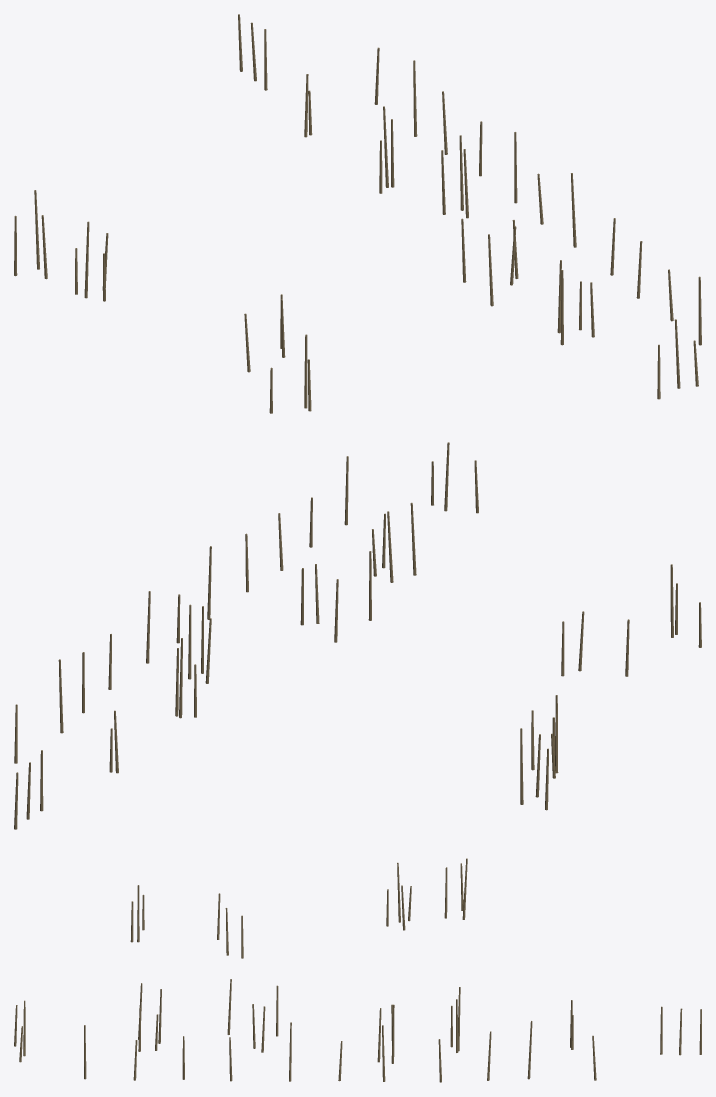
File: TrunksE.fbx
3 views of the same model, one above another, from view 1: azimuth 30°, elevation 25°; view 2: azimuth 150°, elevation 25°; view 3: azimuth 270°, elevation 25° (orthographic). The views are drawn at different scales.
Visible parts, largest first — view 1: TrunkE0.001; view 2: TrunkE0.001; view 3: TrunkE0.001.
Part boxes in pixels (bbox=[...]): TrunkE0.001: bbox=[14, 14, 701, 413]; TrunkE0.001: bbox=[14, 442, 701, 829]; TrunkE0.001: bbox=[14, 858, 701, 1082].
Bounding box in the file's own units: 17615 × 2993 × 29678.
